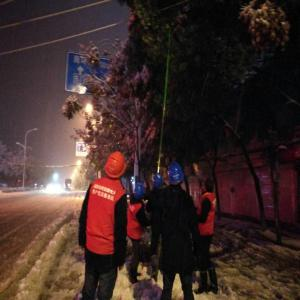blue: (167, 160, 185, 187), (134, 182, 146, 201), (153, 173, 164, 191)
none: (202, 176, 214, 195)
red: (104, 152, 127, 183)
